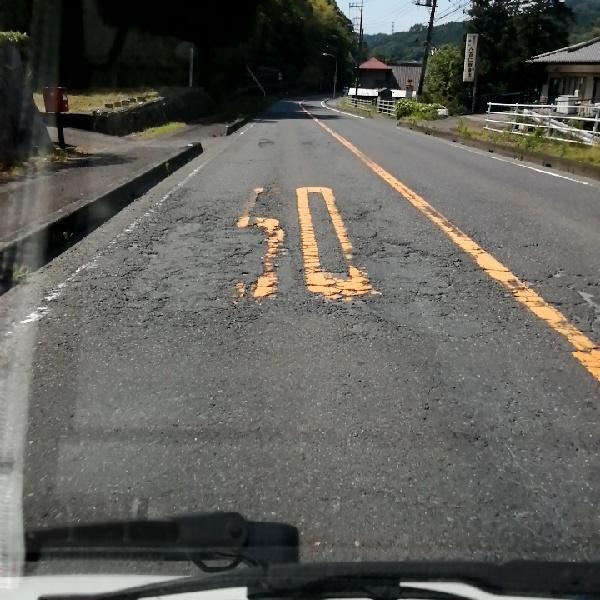D40: (332, 200, 596, 345), (98, 181, 277, 324)
